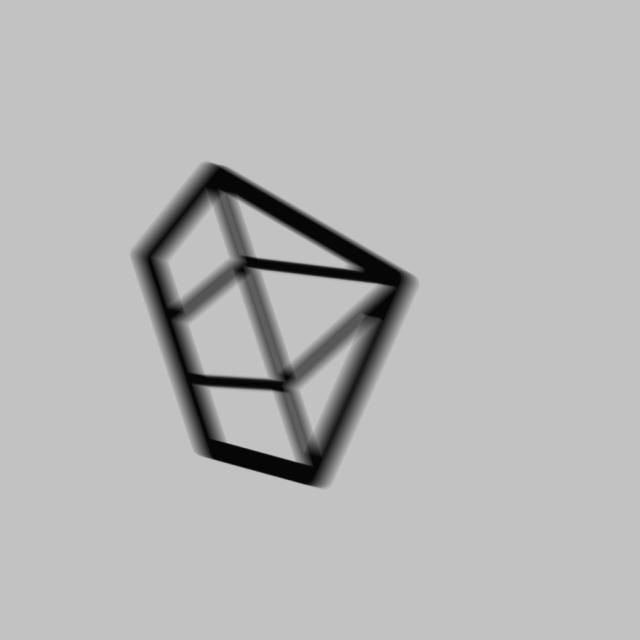diamond: (122, 150, 429, 499)
